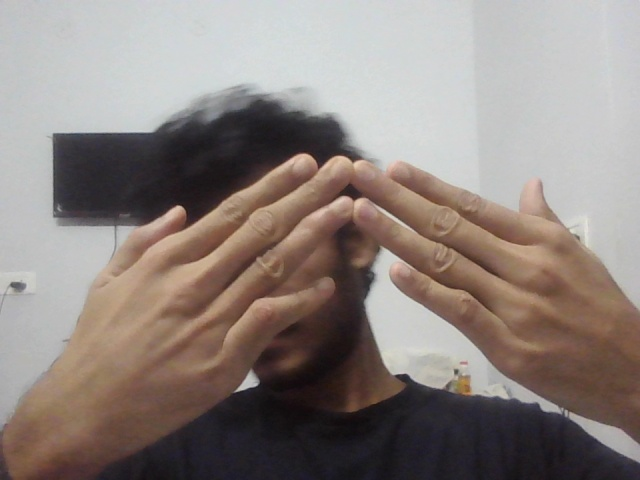Thanks: (38, 109, 638, 454)
